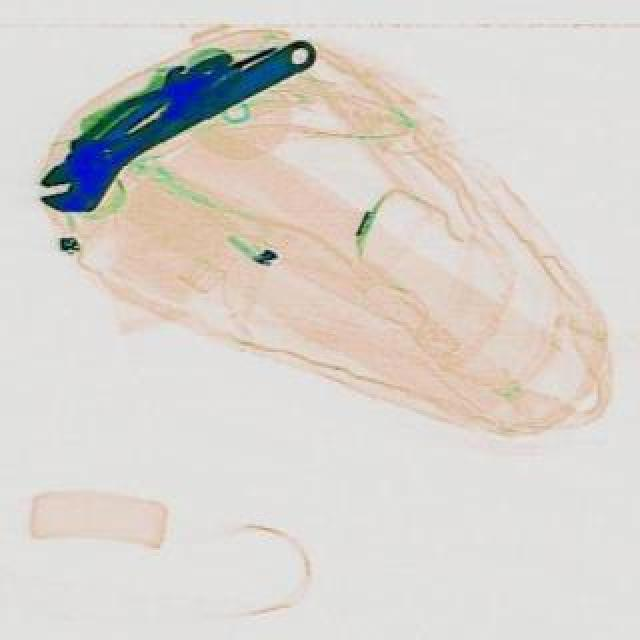scissors: (28, 18, 338, 228)
wrench: (68, 40, 246, 170)
